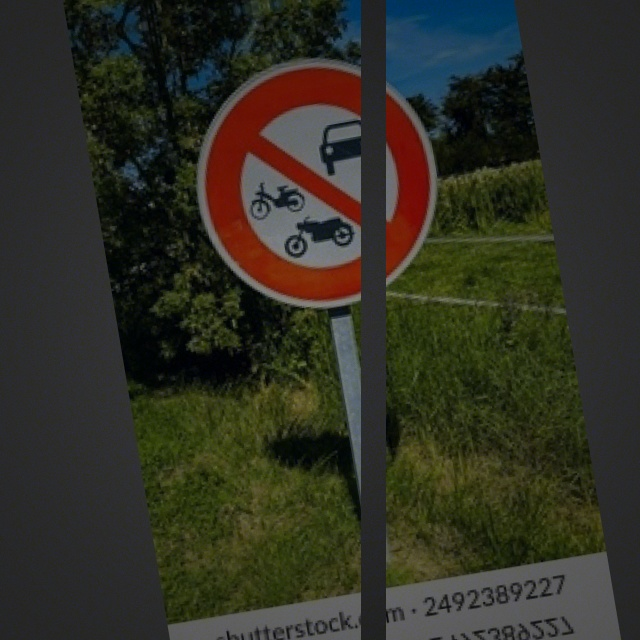All_Motor_Vehicles_Prohibited: (178, 42, 453, 327)
